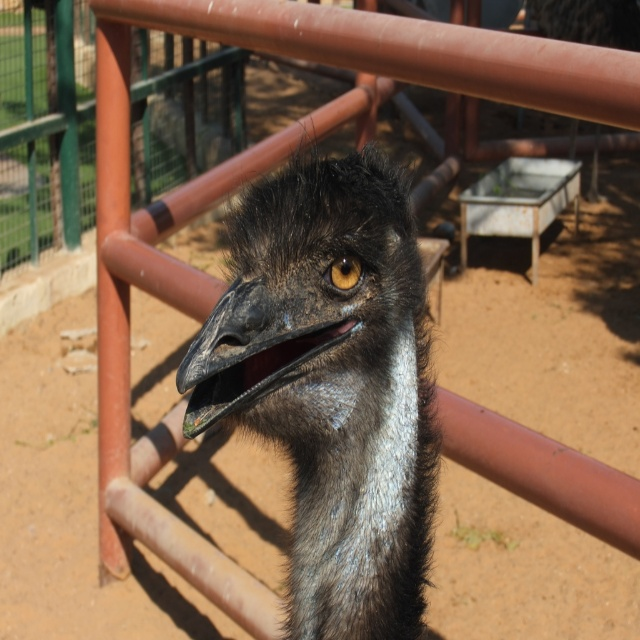Ostrich: (170, 141, 435, 639)
